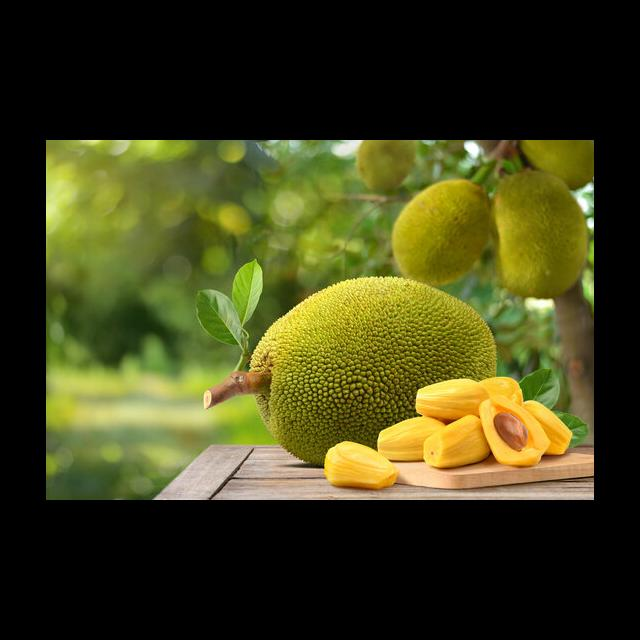mit: (236, 274, 497, 462), (491, 171, 589, 301), (386, 179, 490, 284), (518, 137, 596, 190)
